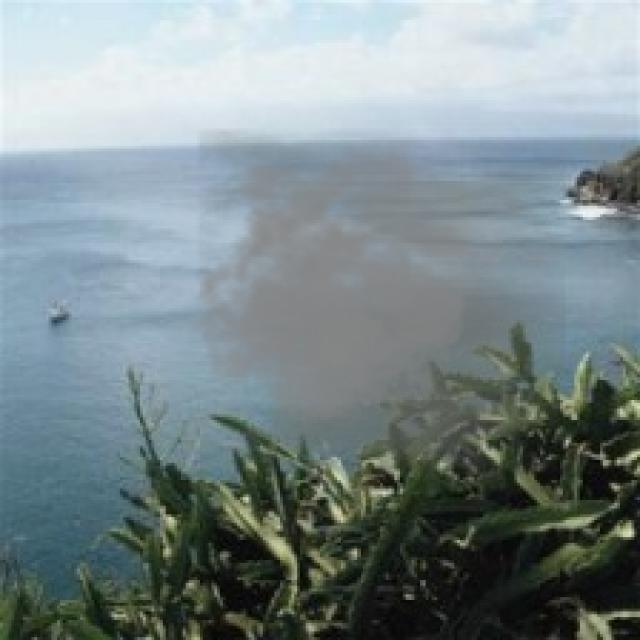smoke: (185, 129, 566, 477)
